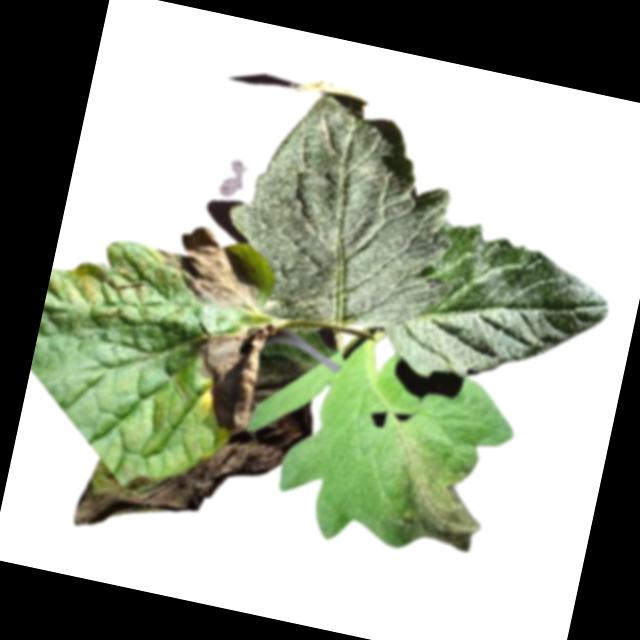Late_blight: (74, 356, 319, 571), (176, 308, 278, 450), (148, 217, 273, 319), (379, 448, 495, 556), (246, 349, 314, 424)
